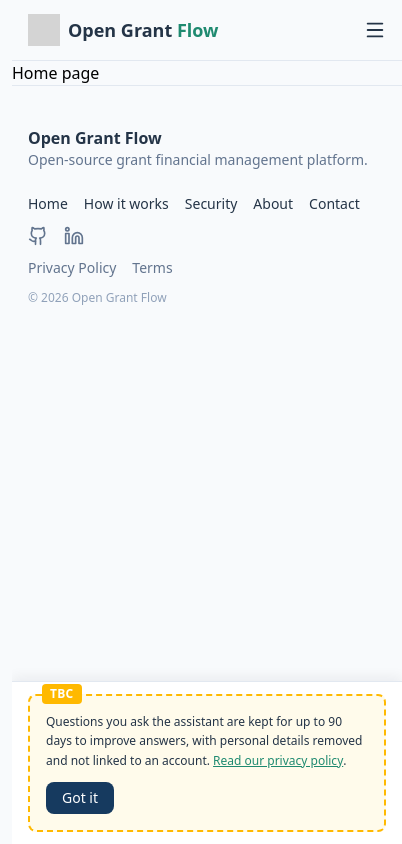
Test: PublicLayout › exposes all nav links and Request Demo once the mobile toggle is opened
Click the button named "Toggle navigation menu".
click(375, 30)  # box [364,19,386,41]
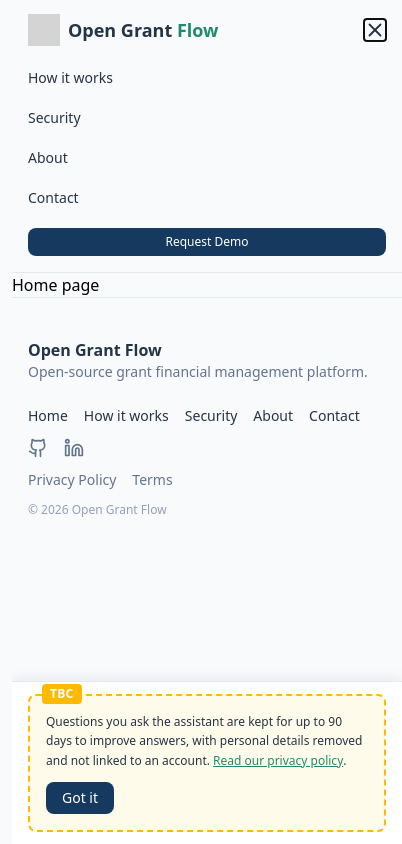
expect the 1st link "How it works" is shown: met, box [28,68,113,87]
expect the 1st link "Security" is shown: met, box [28,108,80,127]
expect the 1st link "About" is shown: met, box [28,148,68,167]
